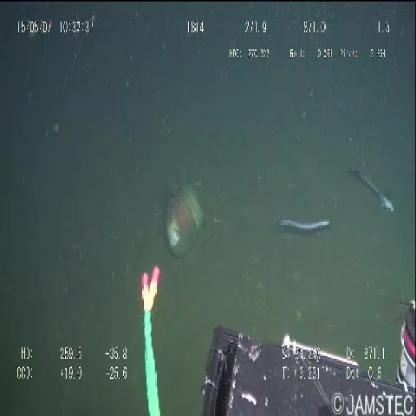Rác: (162, 185, 204, 261)
